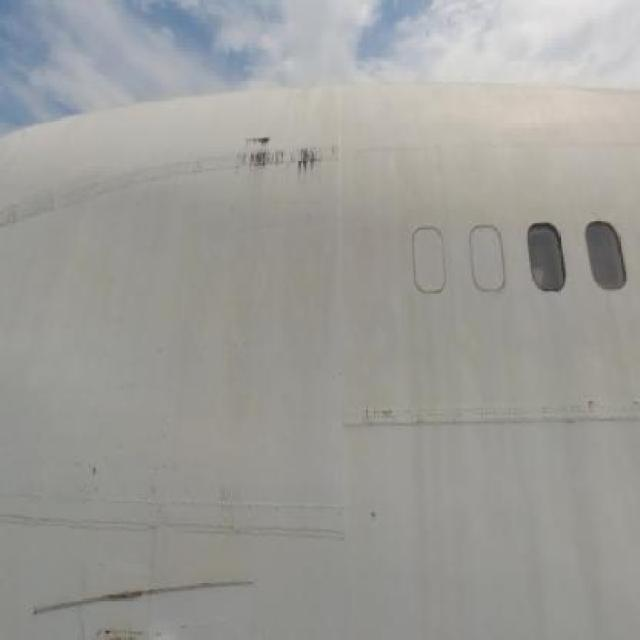Rust: (223, 115, 360, 202)
Scartch: (574, 387, 601, 408)
